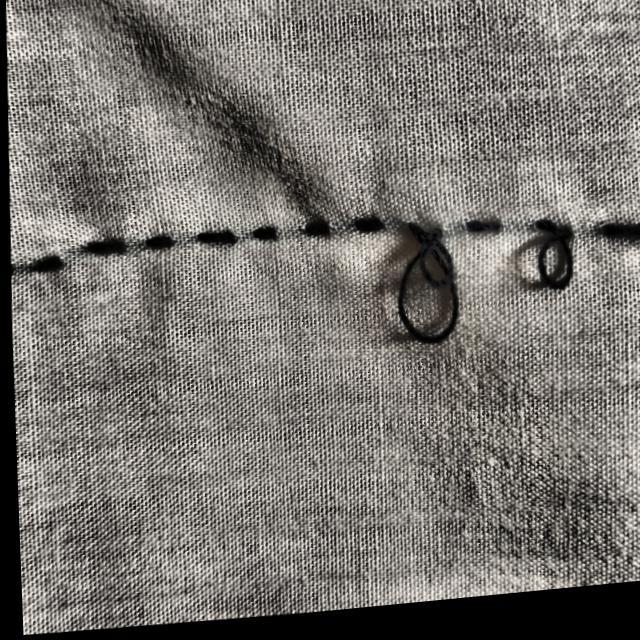Thread: (396, 240, 465, 347), (535, 232, 577, 291)
seam: (10, 210, 640, 282)
